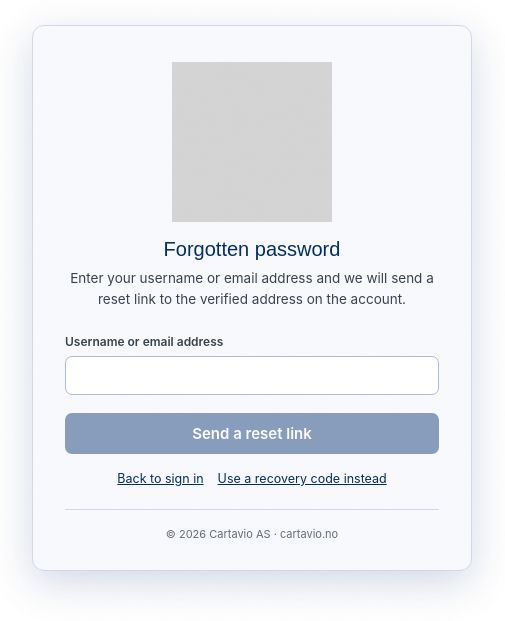
Test: <ForgotScreen> › never claims a message was sent — the server answers identically either way
Type "ghost" into the field labelled "Username or email address". click: (252, 376)
box: [65,356,439,395]
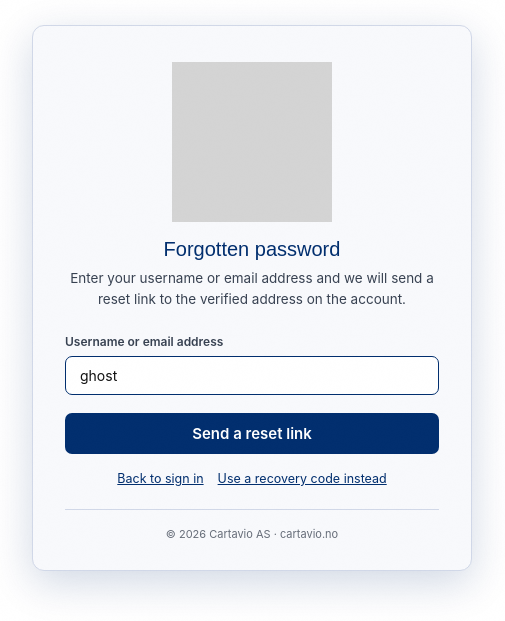
Click the button "Send a reset link". click: (252, 434)
box: [65,413,439,454]
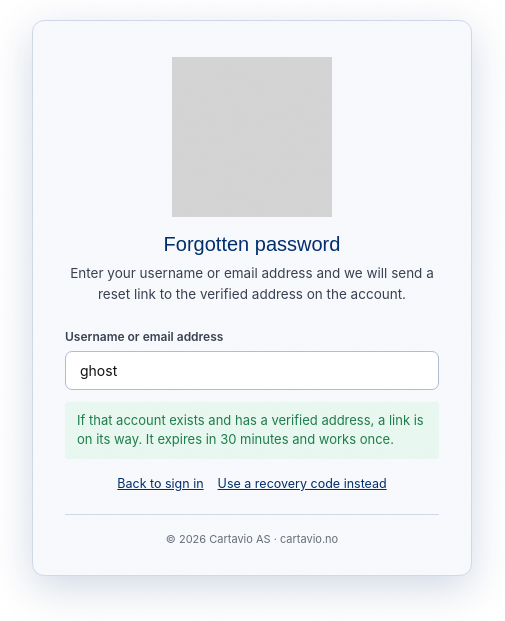
Expected: the message does not show "check your inbox", [65,402,439,459]
Expected: the message shows "If that account exists", [77,412,424,448]
